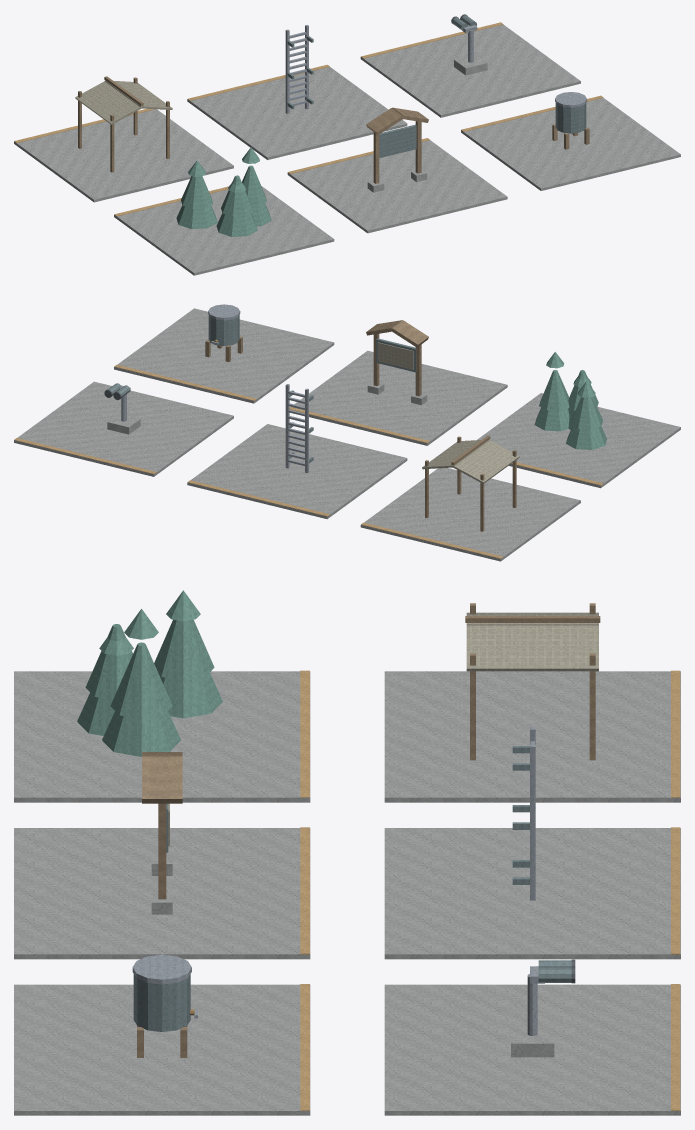
Rendered from level_blockout_kit_wld_04_p03.glb.
3 views of the same model, one above another, from view 1: azimuth 30°, elevation 25°; view 2: azimuth 150°, elevation 25°; view 3: azimuth 270°, elevation 25° (orthographic). The views are drawn at different scales.
Parts seen in each view (by area): view 1: level_blockout_kit_wld_04_p03; view 2: level_blockout_kit_wld_04_p03; view 3: level_blockout_kit_wld_04_p03.
Part boxes in pixels (left/top/right/bottom): level_blockout_kit_wld_04_p03: left=14, top=14, right=680, bottom=275; level_blockout_kit_wld_04_p03: left=14, top=304, right=680, bottom=561; level_blockout_kit_wld_04_p03: left=14, top=590, right=680, bottom=1115.
Bounding box in the file's own units: 19.65 × 3.31 × 12.6.
9 materials, 9 textured.
